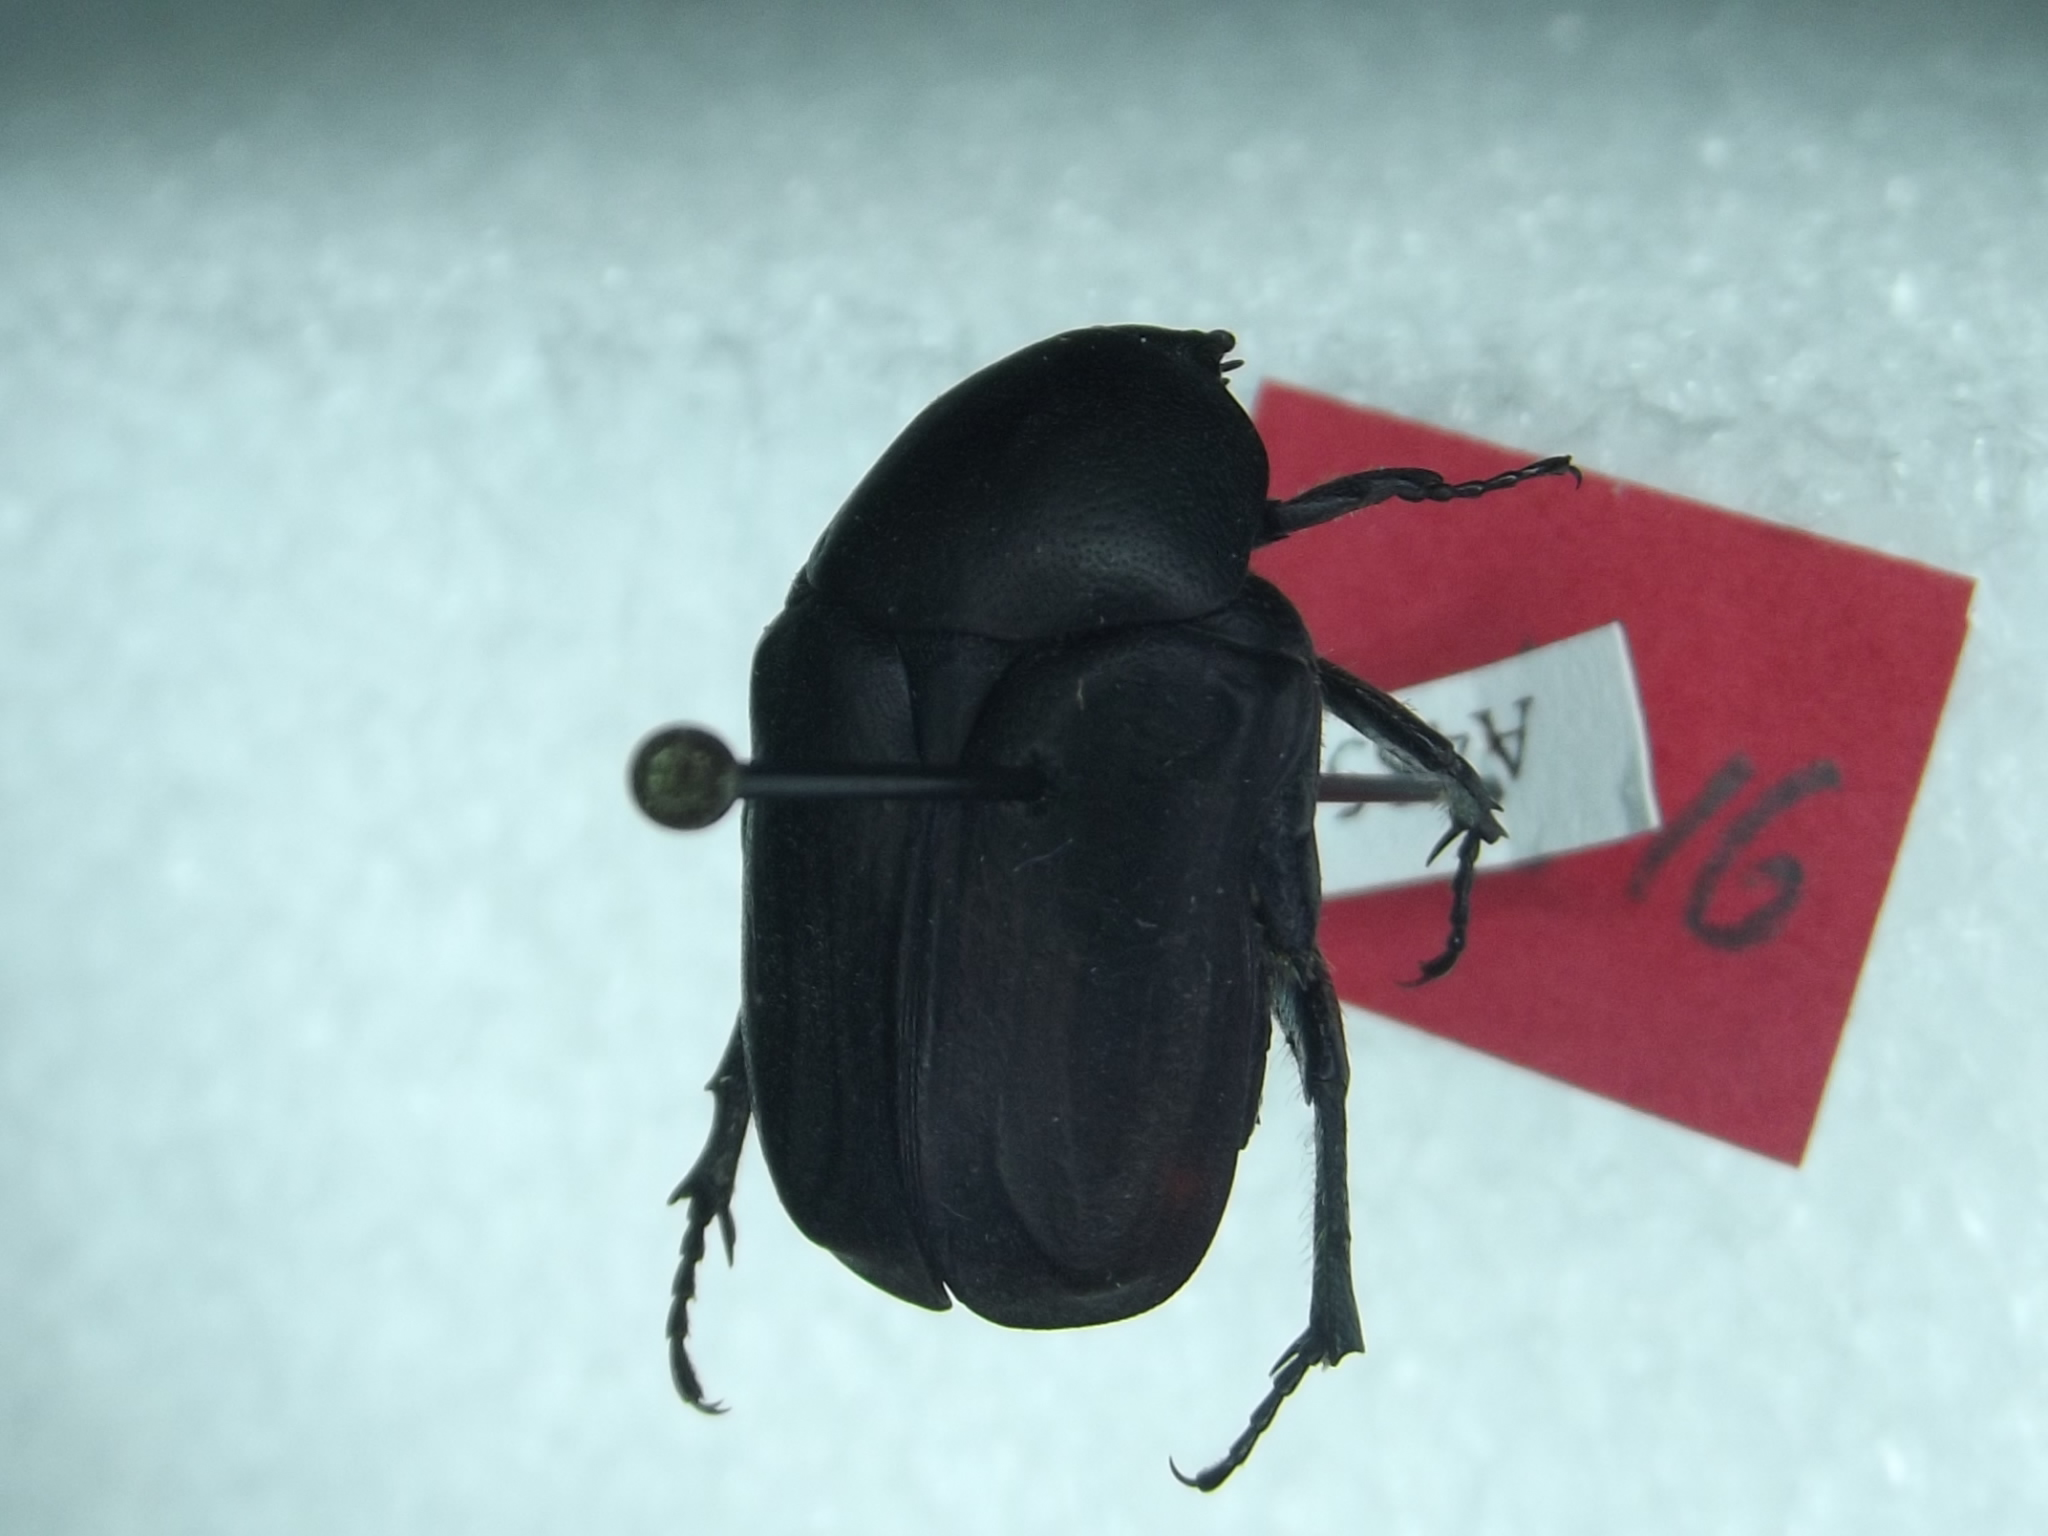Protaetia_vidua: (597, 269, 1622, 1501)
